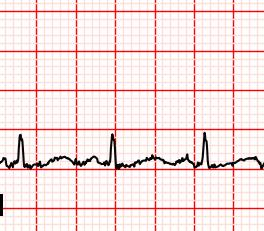Poor R Progression: (193, 127, 216, 168), (11, 132, 29, 165), (106, 131, 121, 166)
